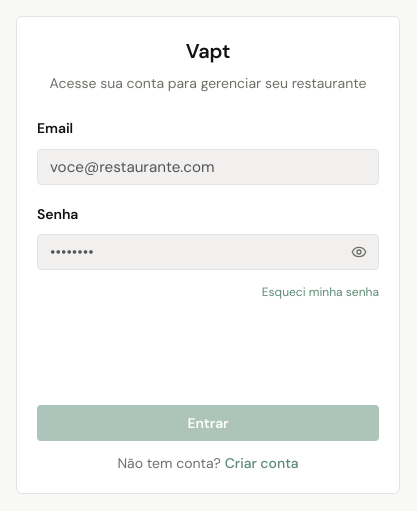
Scenario: Turnstile no login › bloqueia o envio até receber um token e o repassa ao login
Later steps or results of the test are not shown.
Type "gestor@vapt.test" into the field labelled "Email" at [208, 167], box x1=37 y1=149 x2=379 y2=185
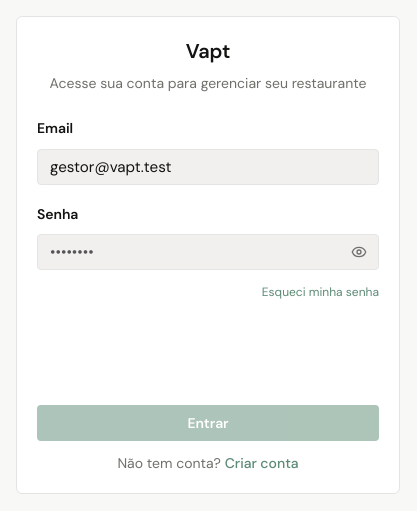
Type "senha-segura" into the password field labelled "Senha" at [208, 252], box x1=37 y1=234 x2=379 y2=270
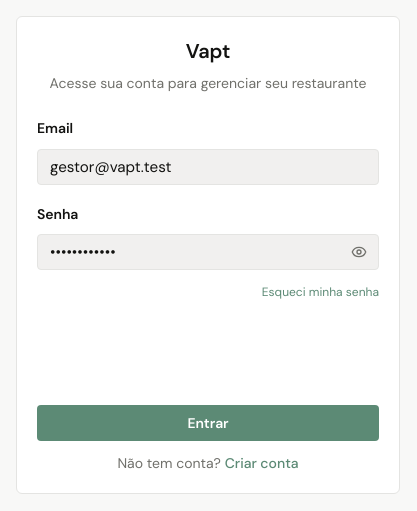
Expected: the button "Entrar" is enabled, x1=37 y1=405 x2=379 y2=441
